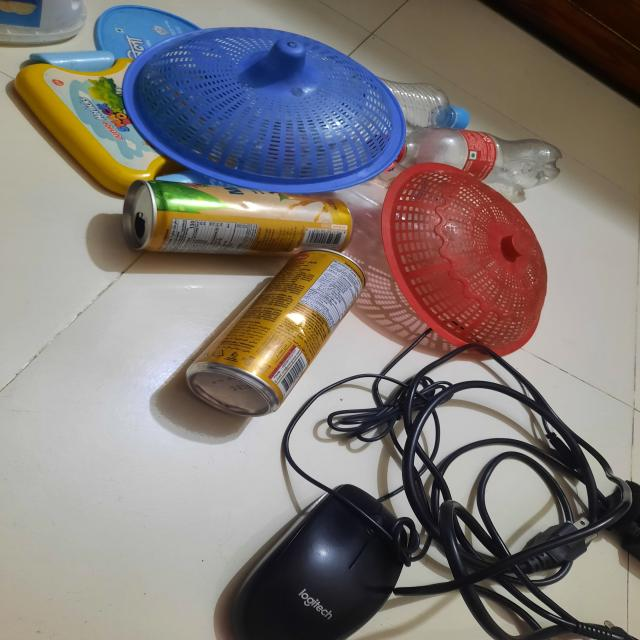Cable: (301, 342, 640, 640)
Plastics: (0, 0, 573, 178), (380, 160, 575, 346)
can: (64, 168, 364, 428)
